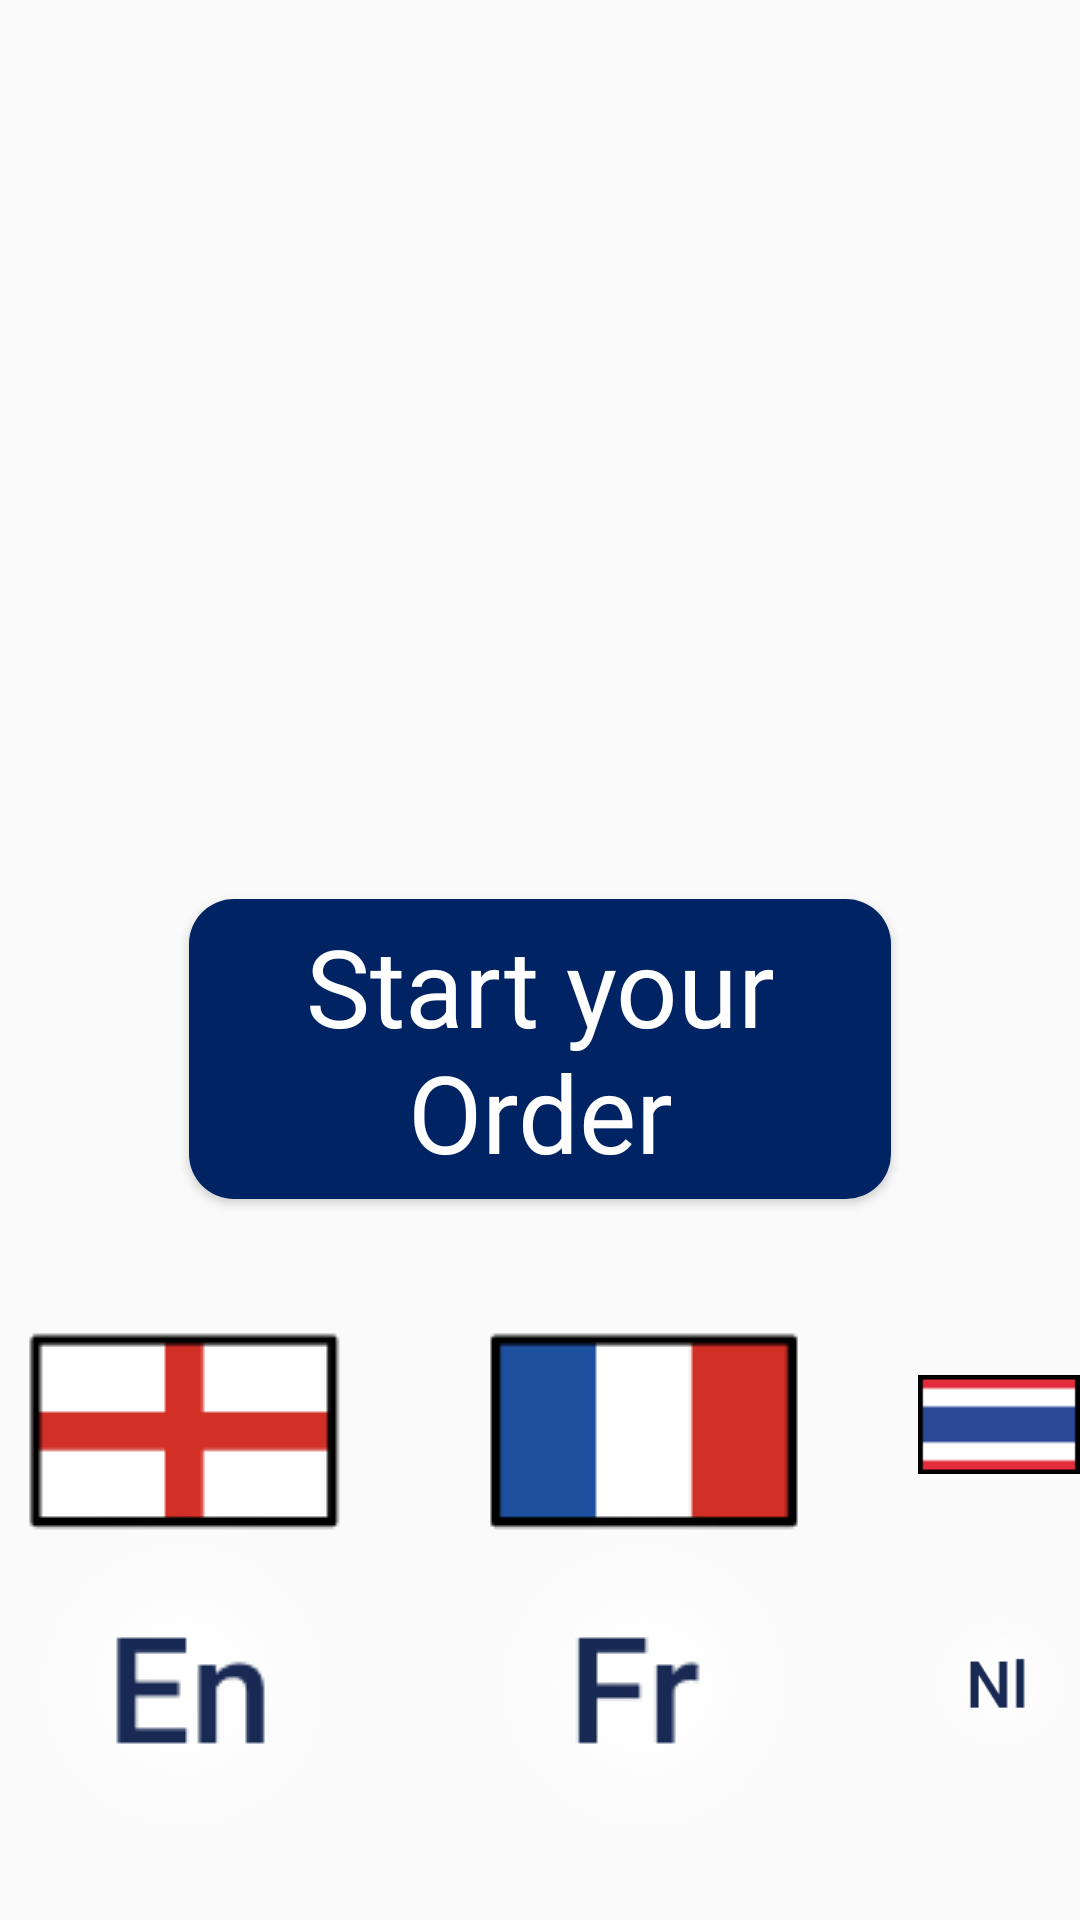

Point at icon controls on the screen. Image size 1080x1920, points as [x,y].
en flag: [184,1431]
flag: [644,1431]
